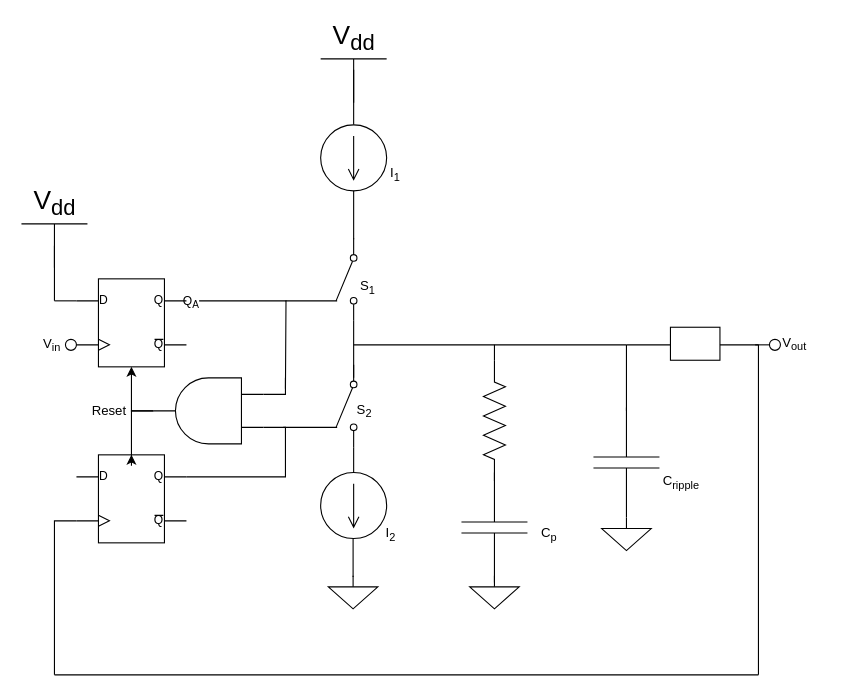
Image size: 846x695. Some labels were removed from this diagram. Here are the shapes that lost their labels. From the top down, the box of each, then its label:
(669, 326, 720, 360): VCO
(482, 359, 505, 481): R p
